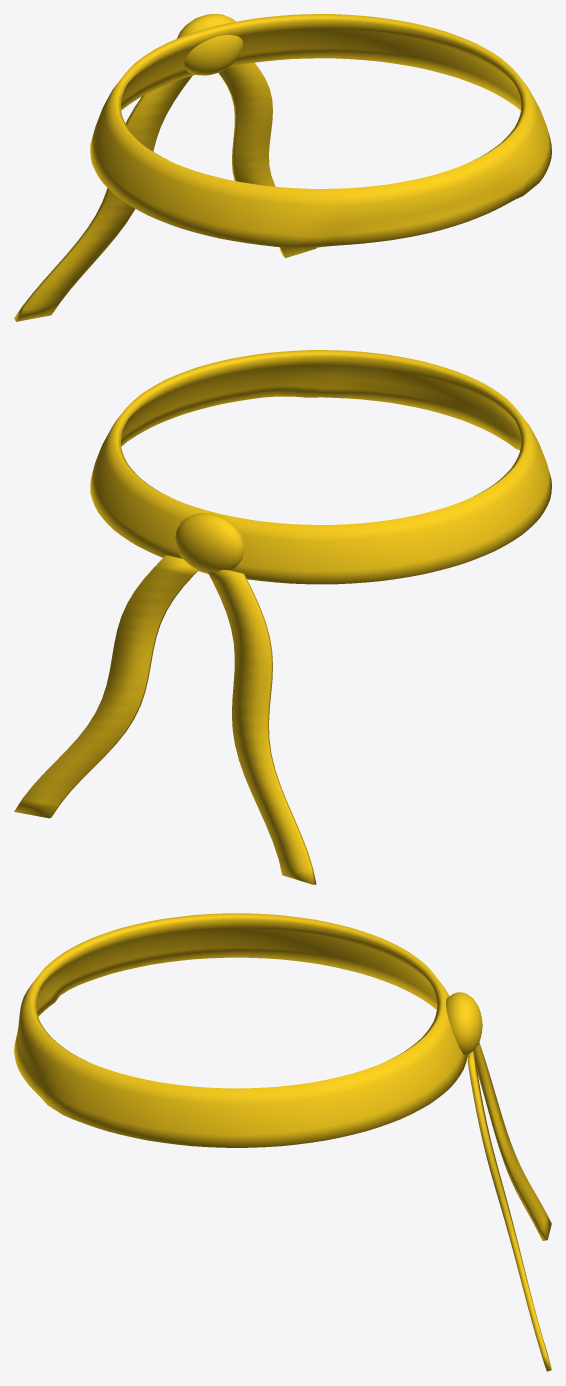
File: hachimaki_yellow.fbx
3 renders of one model, top to bottom at view 1: azimuth 30°, elevation 25°; view 2: azimuth 150°, elevation 25°; view 3: azimuth 270°, elevation 25°, orthographic.
Parts seen in each view (by area): view 1: hachimaki; view 2: hachimaki; view 3: hachimaki.
Part boxes in pixels (box(x1,y1,x2,y2)): hachimaki: box(14, 14, 551, 321); hachimaki: box(14, 350, 551, 884); hachimaki: box(14, 913, 551, 1371).
Bounding box in the file's own units: 1.02 × 0.7337 × 1.19.
